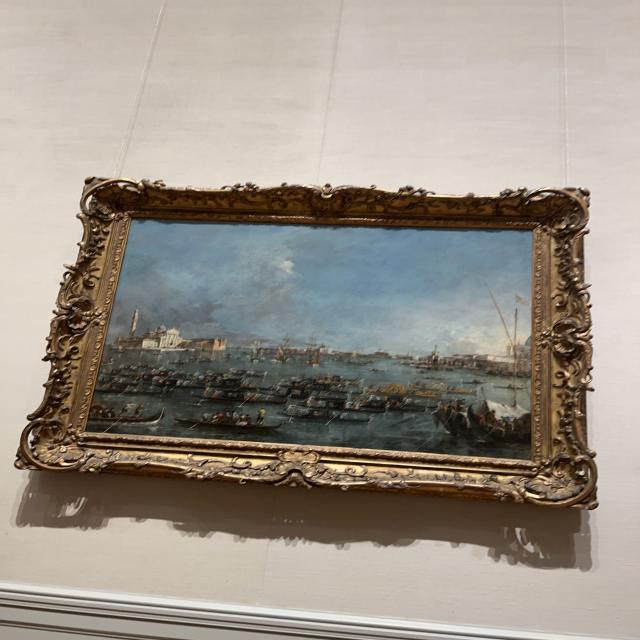ships: (85, 218, 533, 460)
